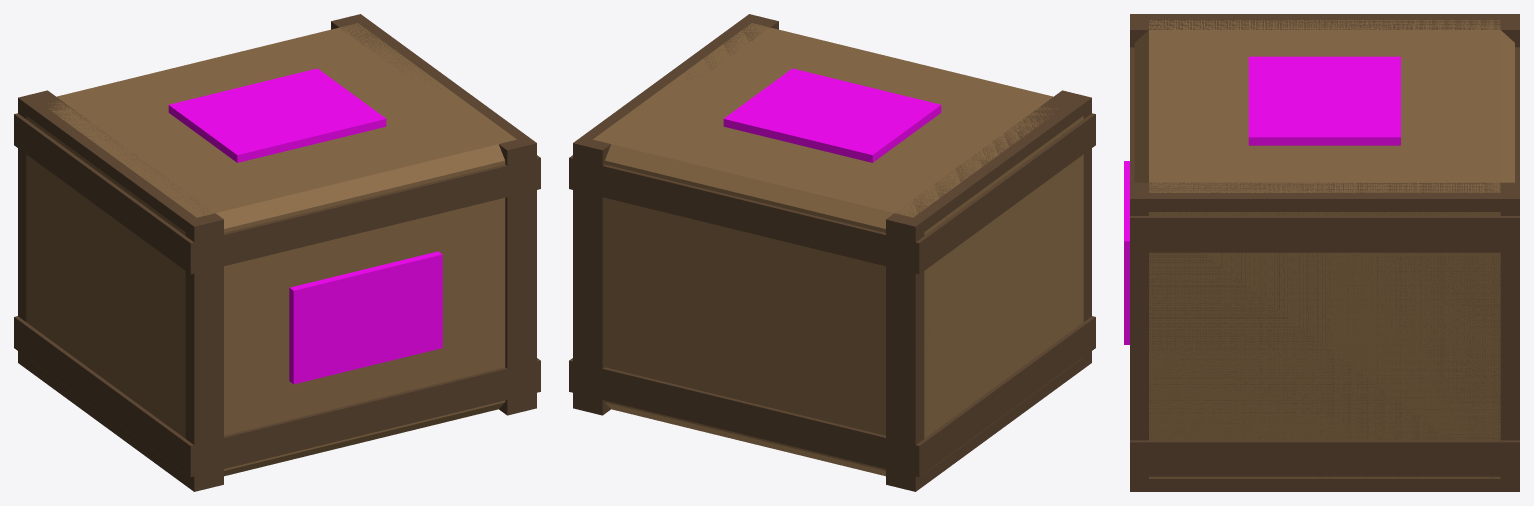
Rendered from objet_caisse.glb.
3 renders of one model, left to right at view 1: azimuth 30°, elevation 25°; view 2: azimuth 150°, elevation 25°; view 3: azimuth 270°, elevation 25°, orthographic. The views are drawn at different scales.
Visible parts, largest first — view 1: caisse_bois.002, caisse_bois_sombre.002, caisse_teinte.002; view 2: caisse_bois.002, caisse_bois_sombre.002, caisse_teinte.002; view 3: caisse_bois.002, caisse_bois_sombre.002, caisse_teinte.002.
Boxes of the visible parts, x1,y1,x2,y2 form: caisse_bois.002: (26,23,516,476); caisse_bois_sombre.002: (14,14,540,491); caisse_teinte.002: (168,68,442,384); caisse_bois.002: (593,23,1083,476); caisse_bois_sombre.002: (569,14,1095,491); caisse_teinte.002: (723,68,941,162); caisse_bois.002: (1134,20,1514,478); caisse_bois_sombre.002: (1130,14,1519,491); caisse_teinte.002: (1124,56,1400,344).
Bounding box in the file's own units: 0.235 × 0.1755 × 0.208.
